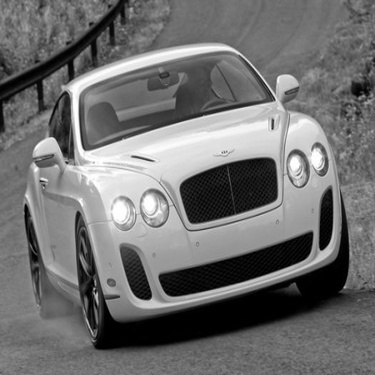car: (16, 45, 353, 337)
